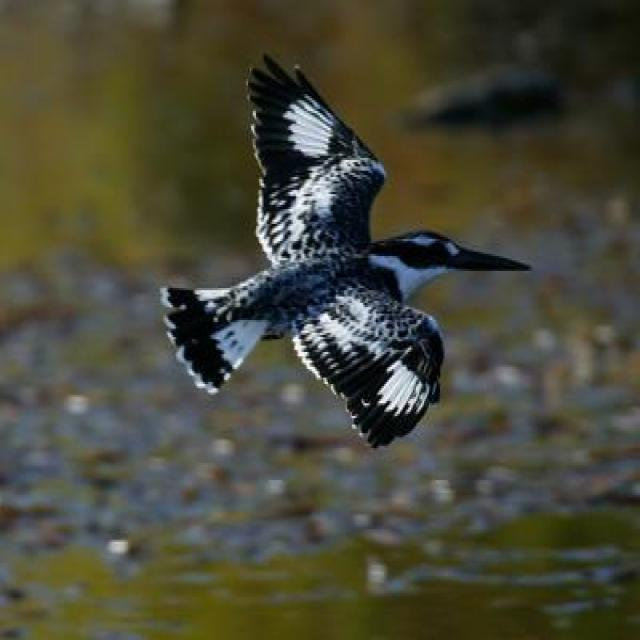birds: (153, 40, 542, 452)
